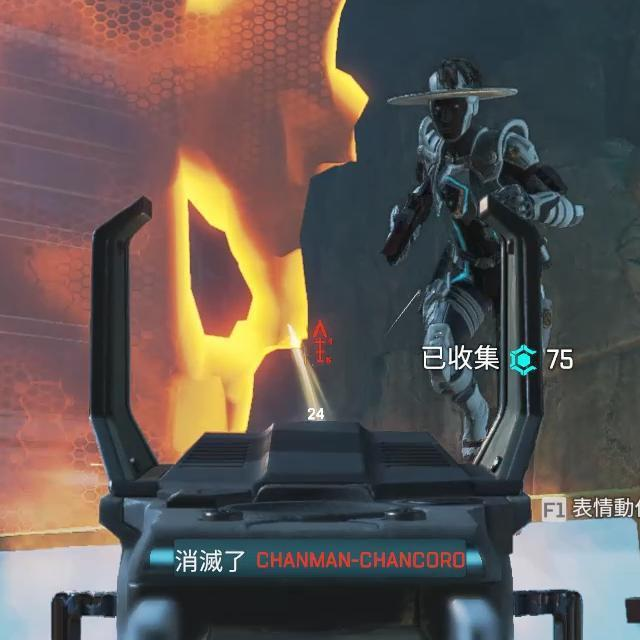avatar: (377, 56, 587, 465)
